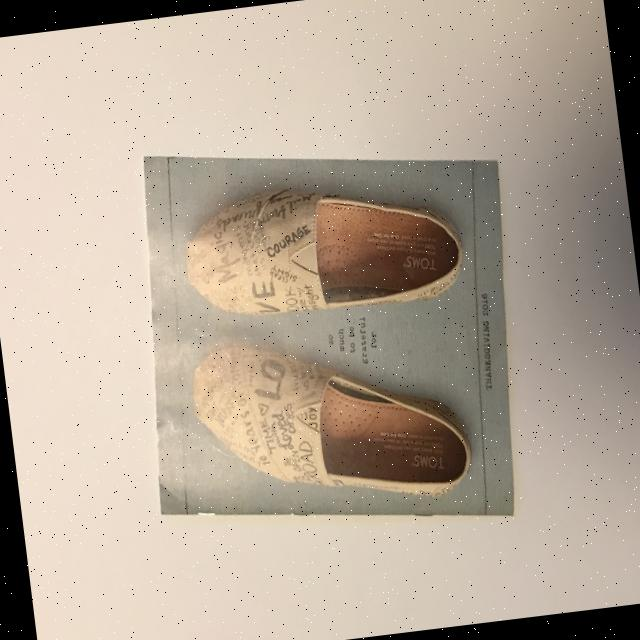paper: (117, 112, 541, 557)
